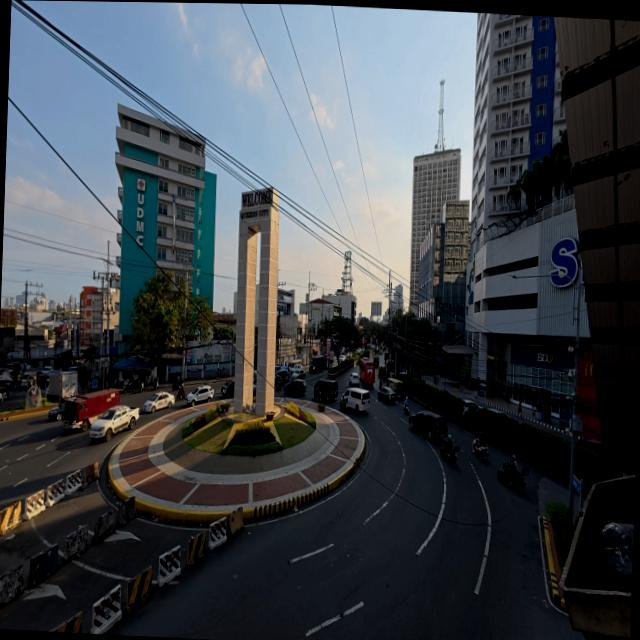Jeepneys: (387, 379, 403, 398)
bus: (359, 358, 375, 385)
car: (409, 412, 447, 439), (143, 392, 175, 412), (186, 386, 213, 405), (48, 400, 66, 421), (577, 439, 602, 453), (284, 380, 306, 395), (463, 400, 481, 417), (378, 387, 396, 403), (488, 407, 512, 418), (21, 371, 37, 387), (221, 379, 234, 397), (348, 372, 360, 387), (292, 369, 306, 380), (289, 360, 302, 370), (276, 368, 289, 377), (41, 367, 53, 376), (338, 354, 345, 362), (252, 381, 256, 395), (0, 392, 4, 404)
motorcycle: (497, 461, 528, 492), (440, 436, 459, 462), (472, 438, 488, 459), (128, 377, 144, 390), (172, 377, 182, 391), (149, 377, 159, 389), (176, 388, 185, 401), (312, 392, 321, 404), (402, 403, 410, 414), (340, 401, 347, 412)
trucks: (64, 390, 120, 430), (90, 406, 138, 441), (47, 371, 78, 403)
vans: (344, 389, 370, 411), (314, 379, 338, 400), (309, 356, 325, 372)
